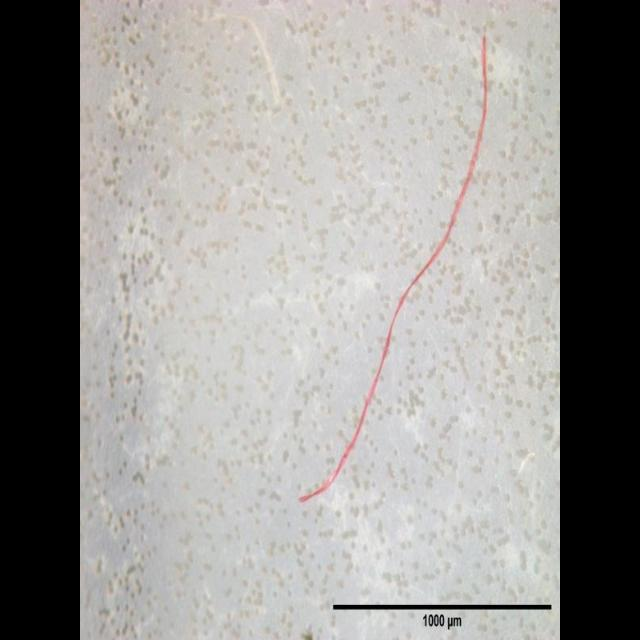Fibre: (297, 32, 488, 504)
